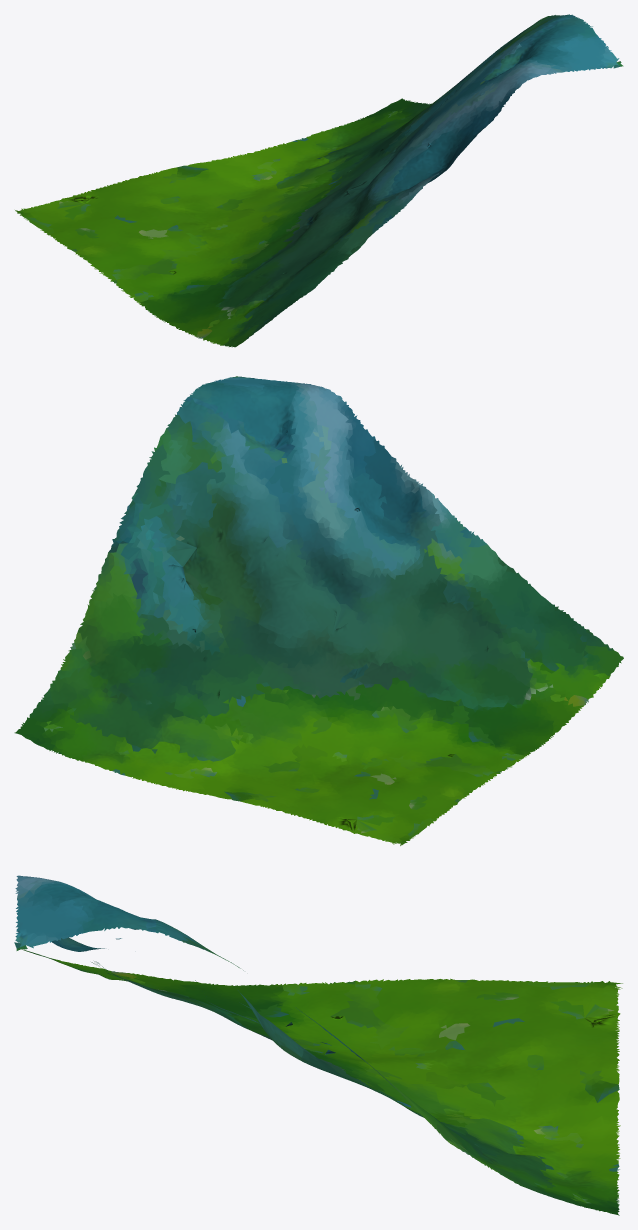
File: chunk_1_1_LOD0.glb
3 renders of one model, top to bottom at view 1: azimuth 30°, elevation 25°; view 2: azimuth 150°, elevation 25°; view 3: azimuth 270°, elevation 25°, orthographic. The views are drawn at different scales.
Parts seen in each view (by area): view 1: chunk_1_1_LOD0; view 2: chunk_1_1_LOD0; view 3: chunk_1_1_LOD0.
Part boxes in pixels (x1=…): chunk_1_1_LOD0: x1=15, y1=14, x2=623, y2=347; chunk_1_1_LOD0: x1=14, y1=376, x2=623, y2=845; chunk_1_1_LOD0: x1=14, y1=875, x2=622, y2=1215.
Size of the model in its own units: 99.62 by 56.23 by 98.71.
1 material, 1 textured.
